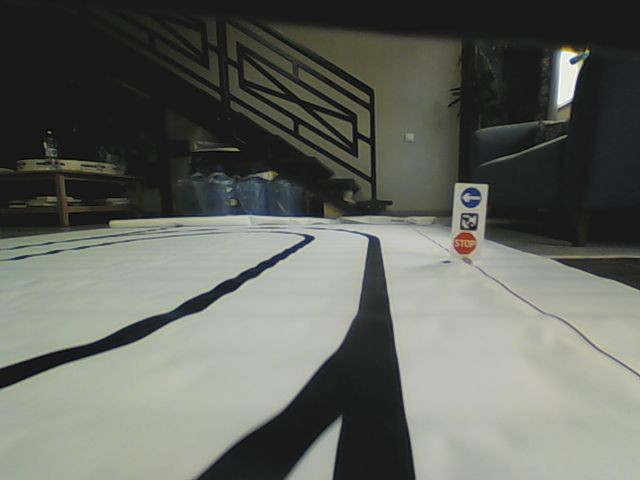Stop: (453, 232, 476, 257)
